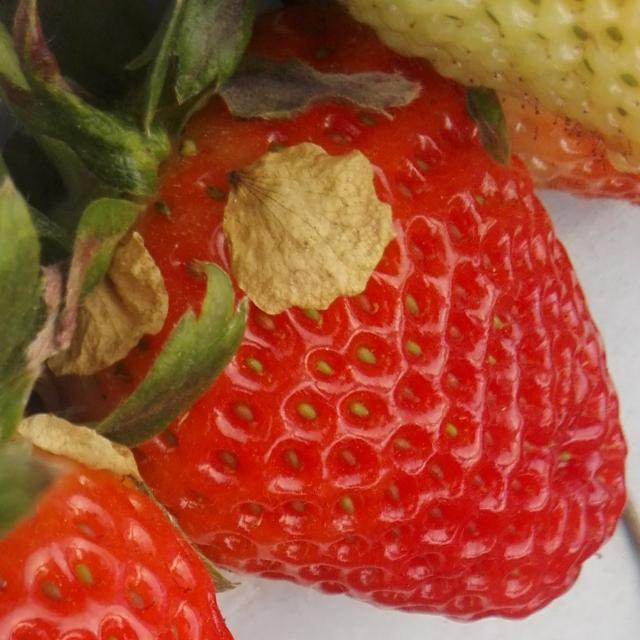Strawberry: (53, 4, 630, 624), (336, 0, 640, 162), (0, 445, 234, 639)
